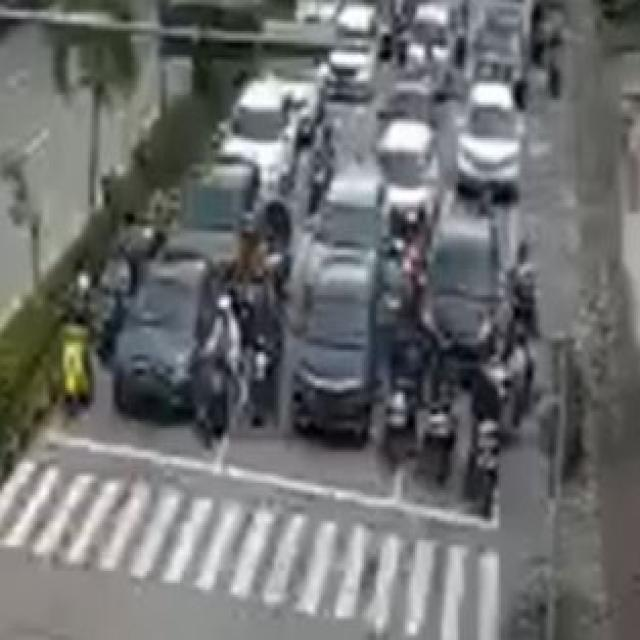car: (294, 258, 376, 446), (111, 258, 208, 414), (419, 212, 499, 362), (302, 169, 385, 309), (222, 81, 302, 189), (455, 96, 526, 196)
motorbike: (57, 273, 94, 417), (468, 384, 498, 518), (251, 305, 281, 434), (389, 330, 416, 471), (210, 300, 233, 441), (429, 365, 451, 482)
